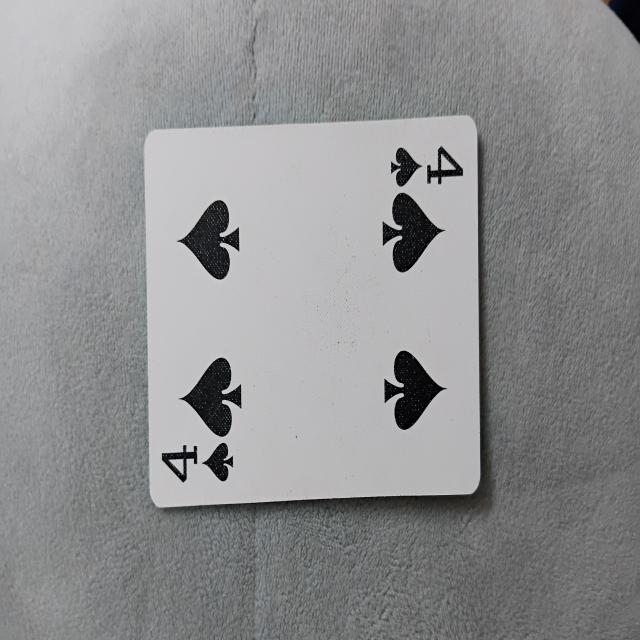4S: (144, 124, 490, 488)
